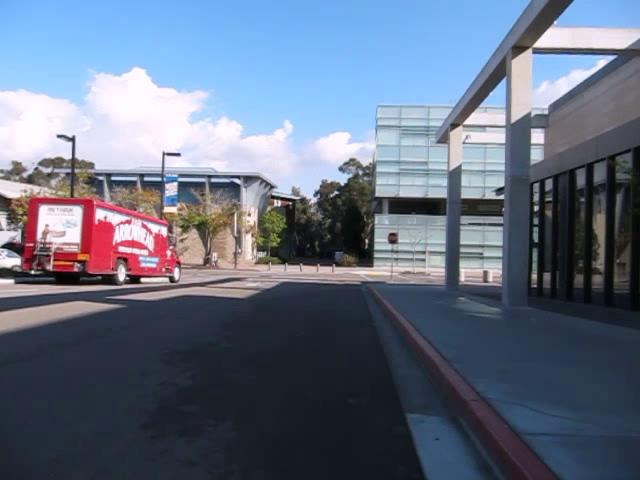stop: (387, 232, 398, 244)
